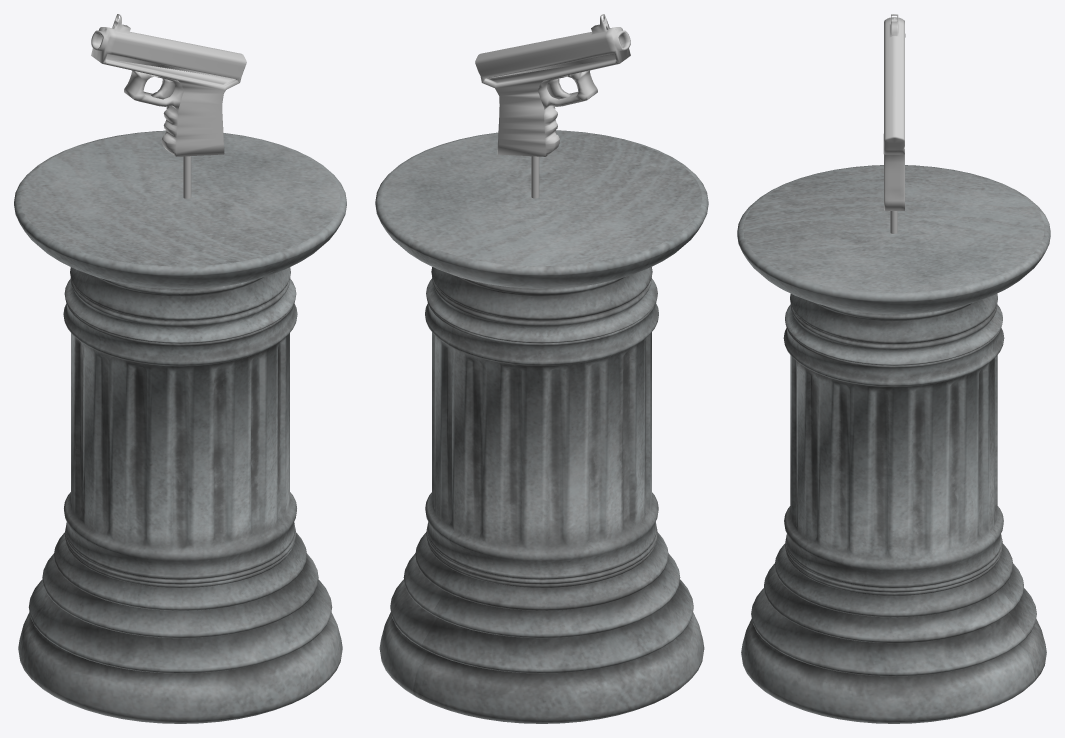
The model's file is PistolPedestal.fbx.
3 renders of one model, left to right at view 1: azimuth 30°, elevation 25°; view 2: azimuth 150°, elevation 25°; view 3: azimuth 270°, elevation 25°, orthographic. The views are drawn at different scales.
Visible parts, largest first — view 1: Cylinder.004, Cylinder.010; view 2: Cylinder.004, Cylinder.010; view 3: Cylinder.004, Cylinder.010.
Boxes of the visible parts, box(x1,y1,x2,y2) form: Cylinder.004: box(14, 130, 346, 723); Cylinder.010: box(91, 14, 246, 198); Cylinder.004: box(375, 130, 708, 723); Cylinder.010: box(475, 14, 630, 198); Cylinder.004: box(737, 165, 1050, 723); Cylinder.010: box(883, 14, 905, 233).
Size of the model in its own units: 221 by 483 by 221.
